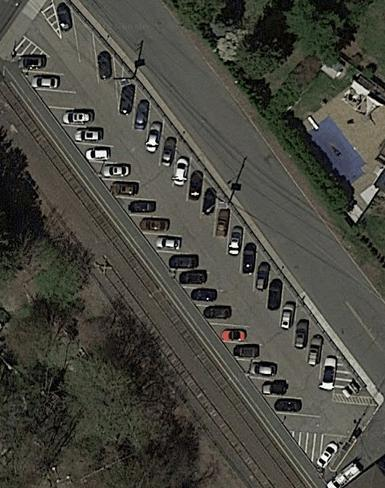parkingspot: (13, 53, 329, 435), (53, 5, 341, 400), (315, 439, 343, 474)
